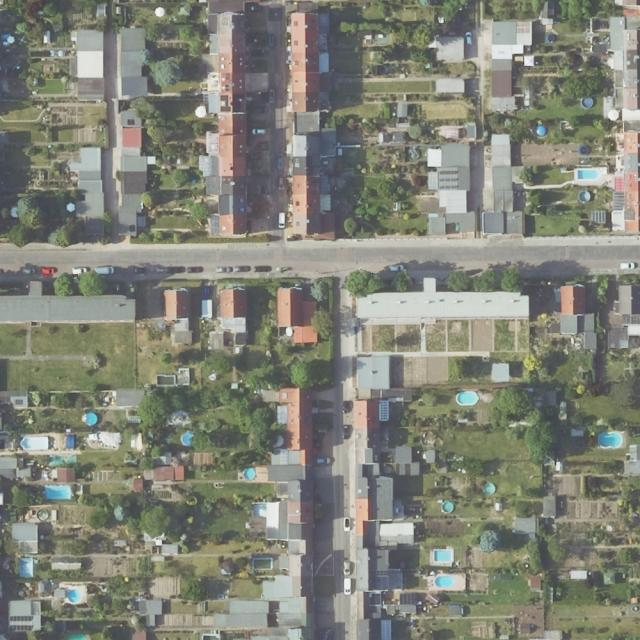PV: (220, 95, 231, 112), (234, 95, 244, 112), (438, 184, 459, 190), (437, 170, 458, 175), (438, 177, 458, 182)
